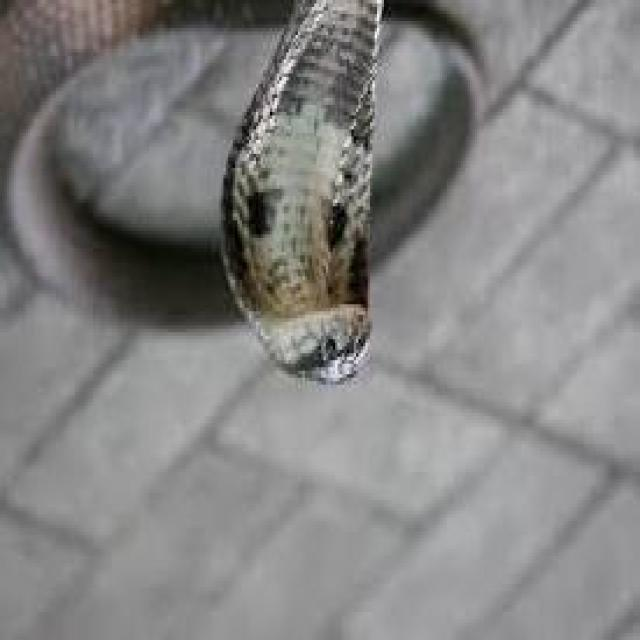Venomous: (218, 108, 384, 388)
